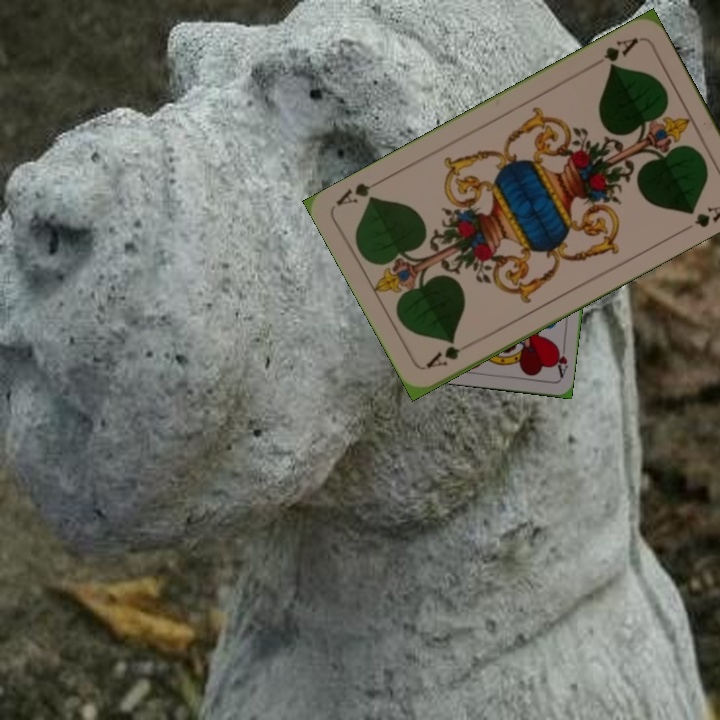GA: (599, 33, 641, 72), (422, 338, 463, 371)
HA: (551, 341, 570, 380)
